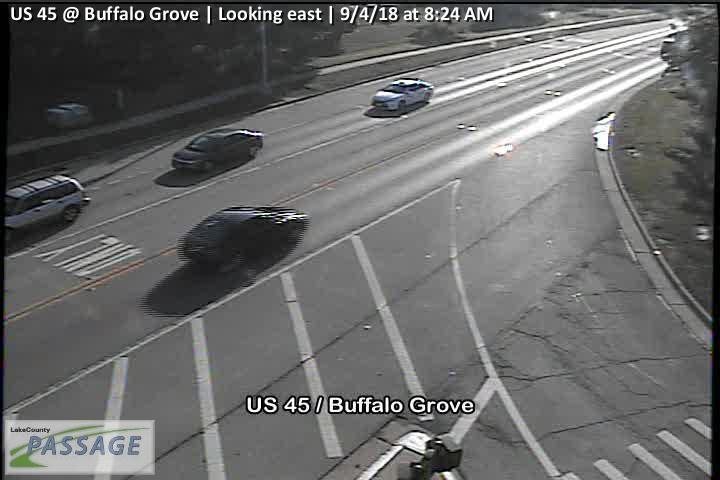SUV: (3, 172, 92, 244)
Sedan: (176, 204, 309, 273), (171, 126, 266, 177), (370, 78, 435, 112)
